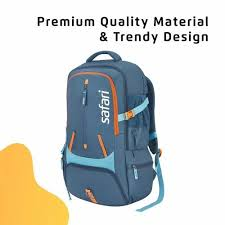backpack: (60, 50, 164, 211)
